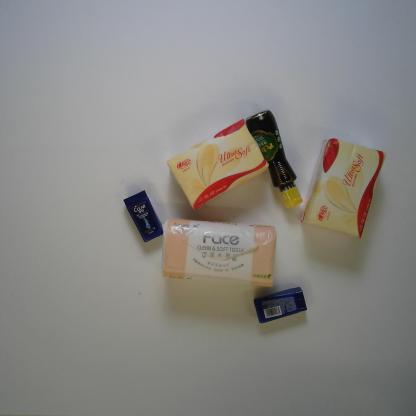Personal Hygiene: (123, 190, 164, 242), (254, 286, 308, 324)
Seasoner: (245, 109, 303, 210)
Tissue: (166, 119, 270, 211), (301, 138, 386, 239), (161, 218, 277, 288)
